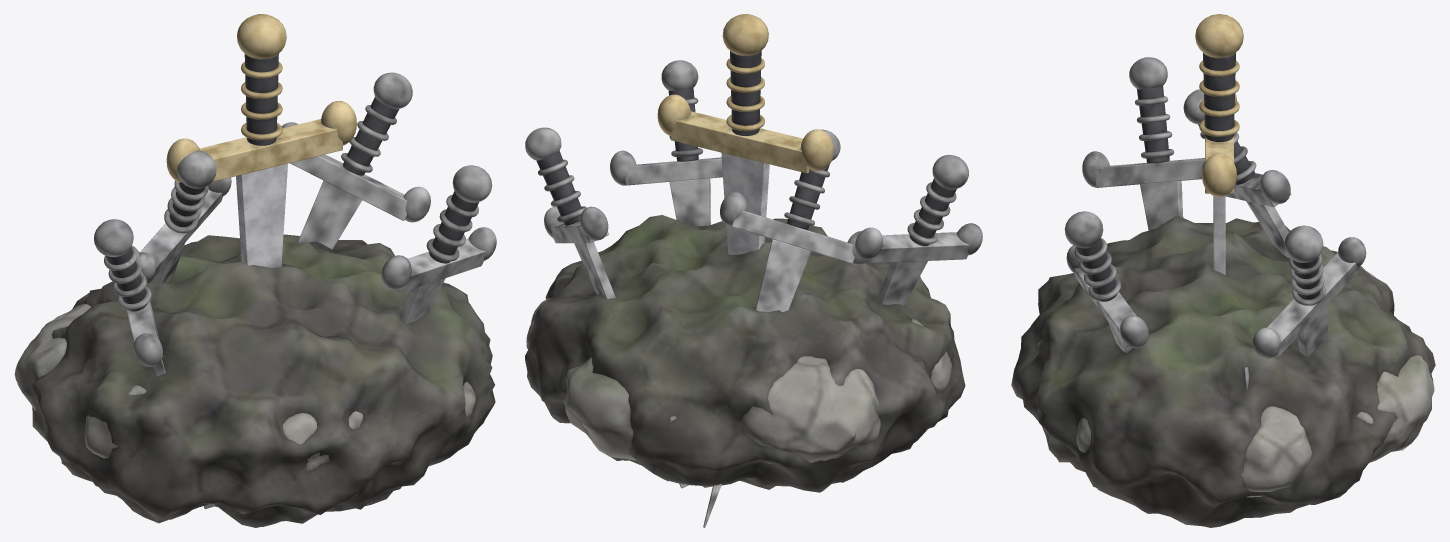
Rendered from hill.glb.
The picture shows the model from 3 angles, left to right: view 1: azimuth 30°, elevation 25°; view 2: azimuth 150°, elevation 25°; view 3: azimuth 270°, elevation 25°; orthographic projection. The views are drawn at different scales.
Visible parts, largest first — view 1: stone_dark, metal_iron, metal_brass, cloth_black, stone_grey, metal_steel; view 2: stone_dark, metal_iron, stone_grey, metal_brass, cloth_black, metal_steel; view 3: stone_dark, metal_iron, stone_grey, cloth_black, metal_brass, metal_steel.
Part boxes in pixels (box(x1,y1,x2,y2)): stone_dark: box(30, 234, 495, 527); metal_iron: box(94, 72, 496, 509); metal_brass: box(166, 14, 356, 182); cloth_black: box(106, 53, 478, 311); stone_grey: box(14, 303, 475, 471); metal_steel: box(236, 163, 287, 267); stone_dark: box(525, 215, 965, 492); metal_iron: box(525, 60, 982, 527); stone_grey: box(526, 298, 951, 463); metal_brass: box(657, 14, 833, 173); cloth_black: box(536, 51, 956, 245); metal_steel: box(721, 152, 769, 254); stone_dark: box(1011, 215, 1435, 527); metal_iron: box(1064, 57, 1408, 450); stone_grey: box(1037, 265, 1434, 497); cloth_black: box(1076, 53, 1320, 301); metal_brass: box(1195, 14, 1243, 197); metal_steel: box(1213, 196, 1225, 274).
Size of the model in its own units: 0.425 by 0.4818 by 0.3831.
7 materials, 6 textured.
